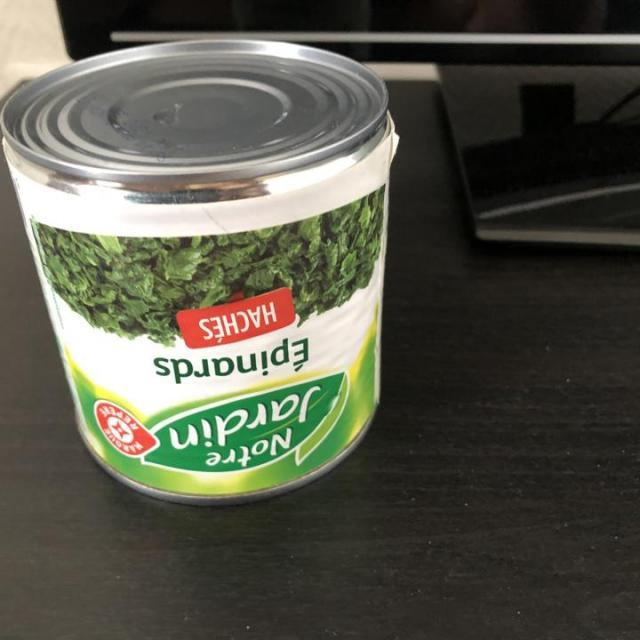metal-can: (0, 34, 401, 511)
